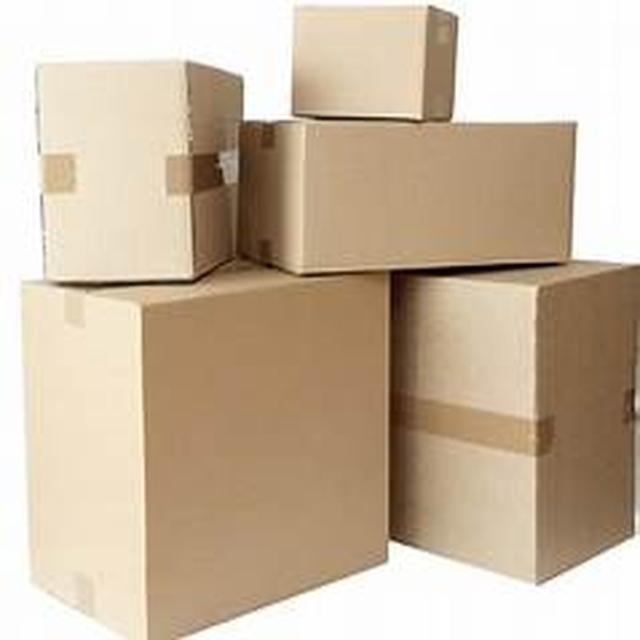box: (0, 270, 397, 624), (395, 250, 632, 590), (9, 39, 245, 288), (253, 100, 588, 274), (264, 9, 498, 119)
